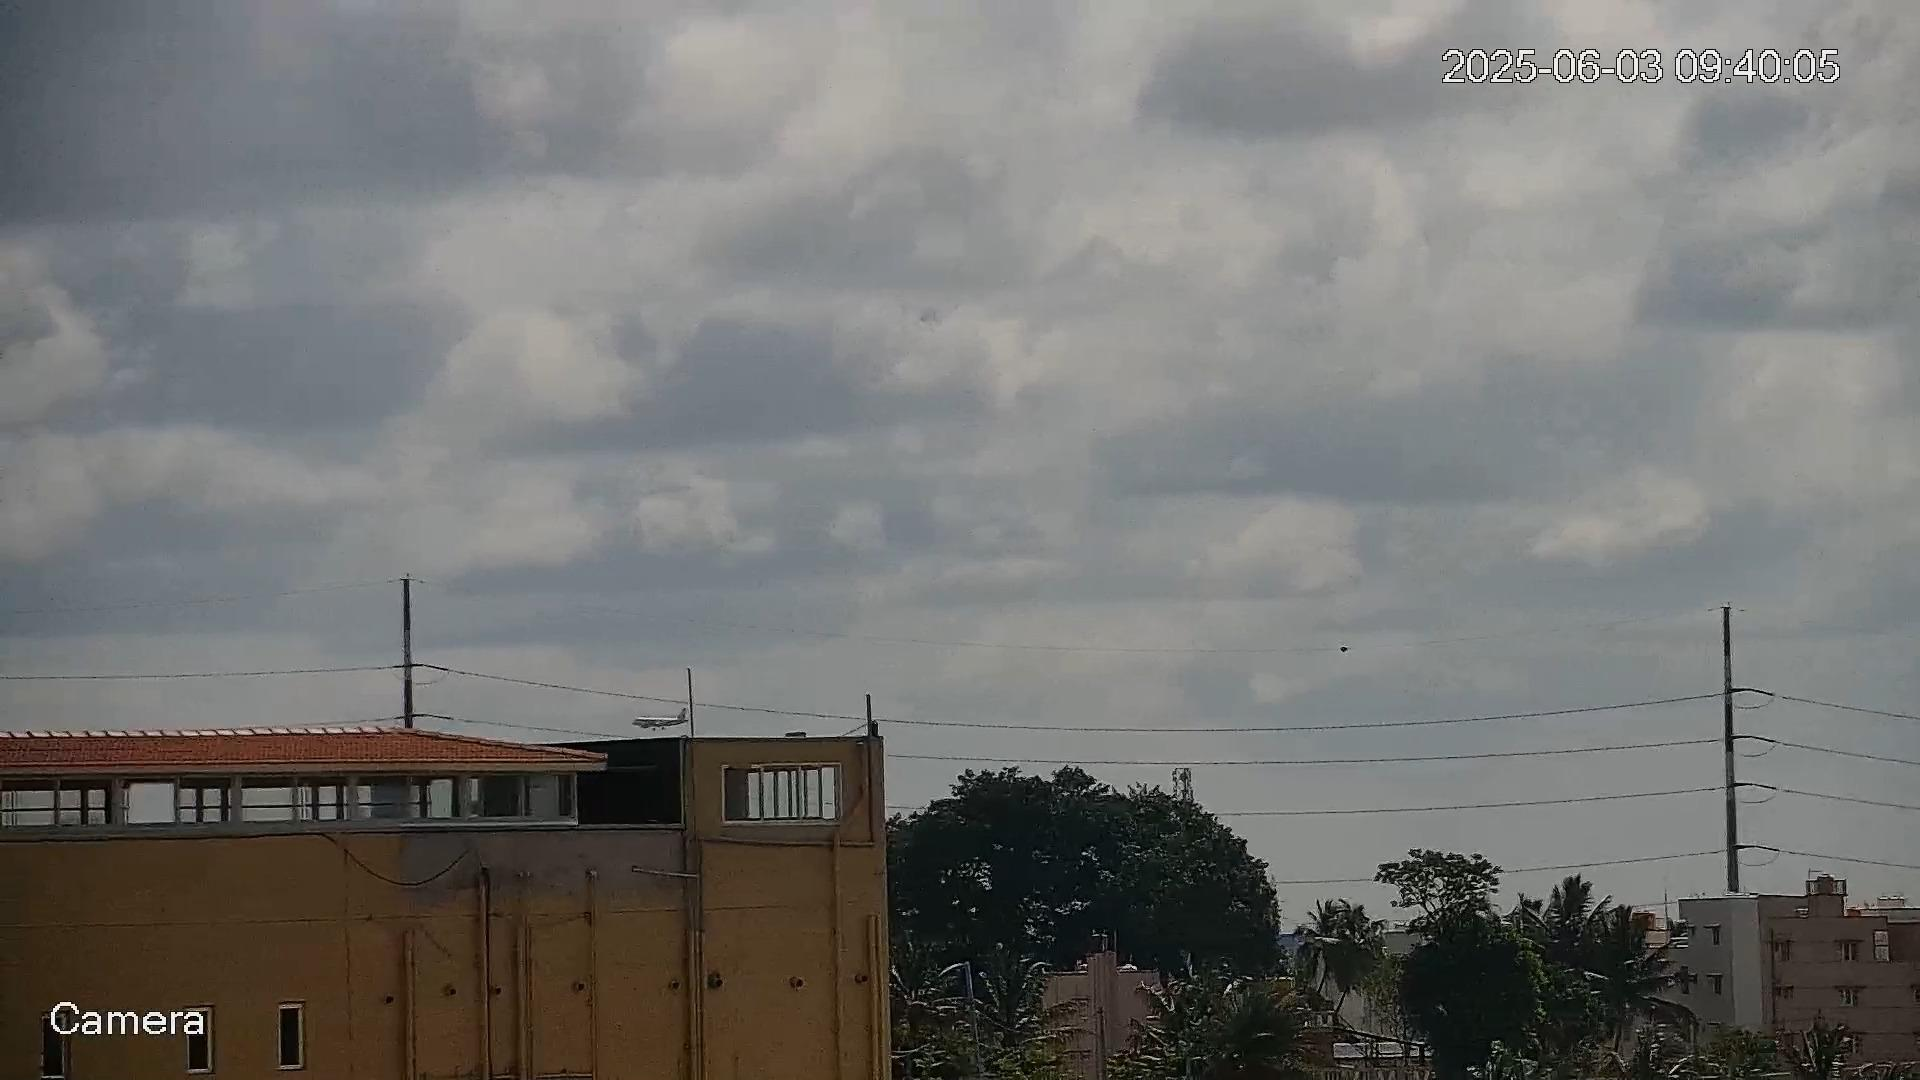Aircraft: (632, 704, 688, 733)
